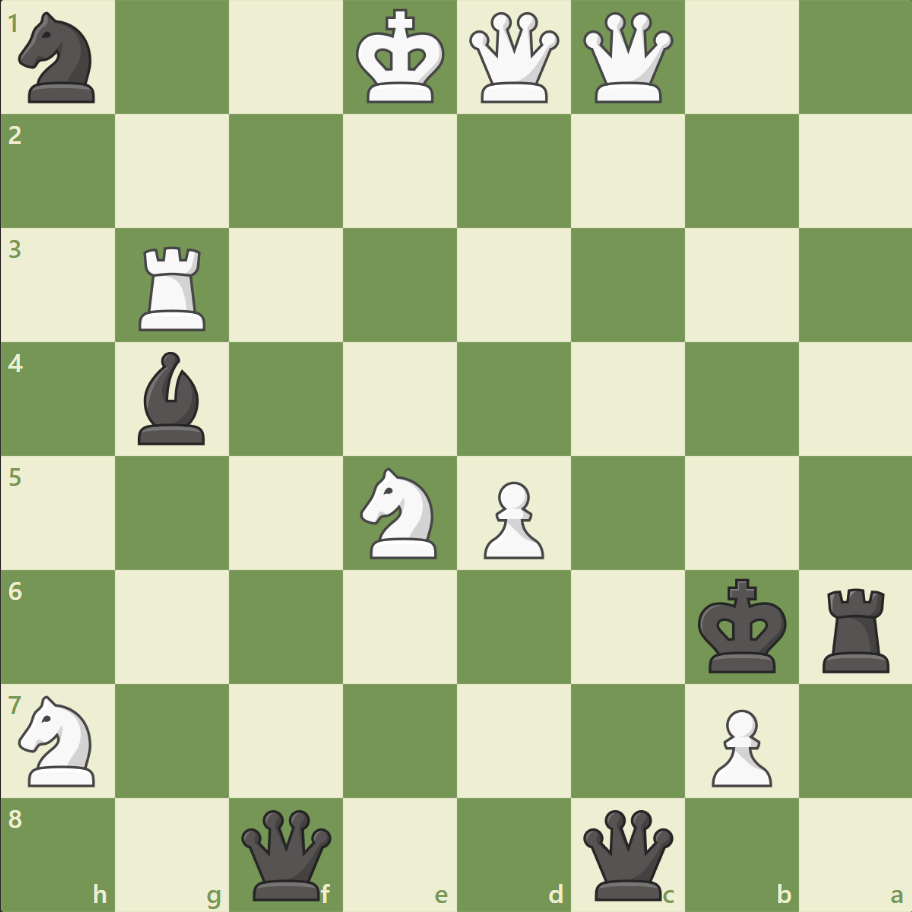K: (351, 4, 451, 112)
N: (351, 461, 449, 564), (11, 688, 108, 791)
P: (701, 700, 776, 791), (474, 473, 549, 564)
Q: (578, 9, 677, 108), (464, 9, 563, 108)
R: (133, 239, 215, 336)
b: (131, 347, 215, 449)
k: (692, 571, 792, 679)
n: (11, 7, 108, 110)
q: (578, 804, 677, 903), (237, 804, 336, 903)
r: (814, 579, 897, 676)
